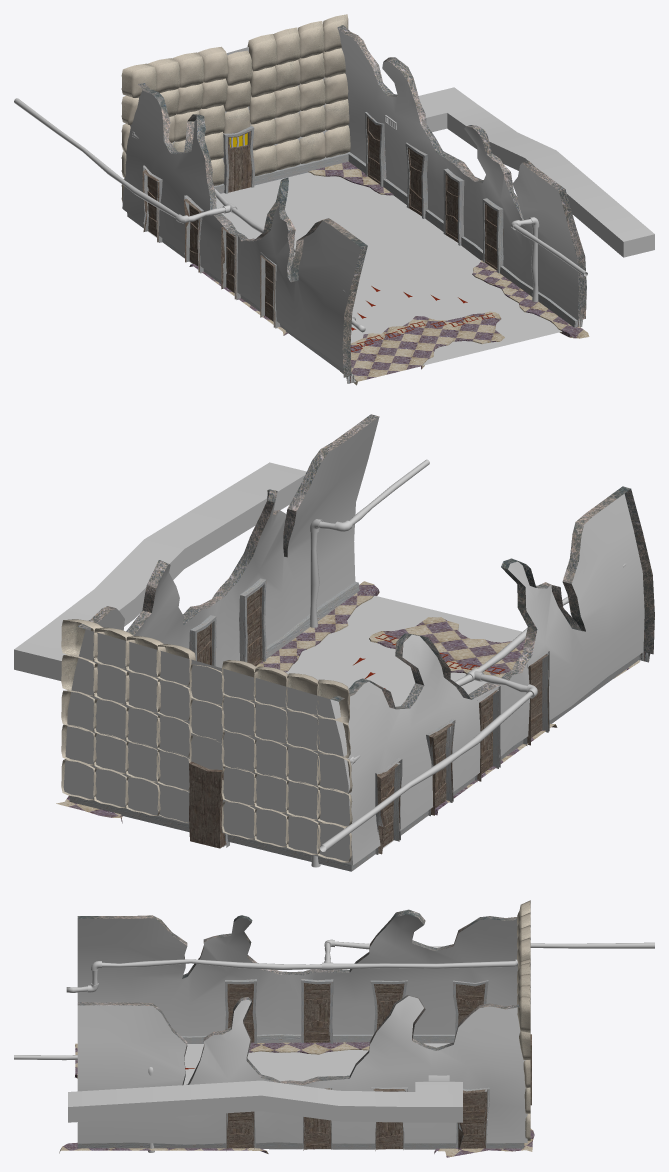
Rendered from BasicRoom01.fbx.
3 renders of one model, top to bottom at view 1: azimuth 30°, elevation 25°; view 2: azimuth 150°, elevation 25°; view 3: azimuth 270°, elevation 25°, orthographic. The views are drawn at different scales.
Parts seen in each view (by area): view 1: Room, PadedWall, Vent, FloorChunk1, Pipes, FloorChunk3, Exitdoor, Pipes1, FloorChunk4, Door2, Door7, Door6 (+11 smaller); view 2: Room, Vent, PadedWall, FloorChunk1, Pipes, Exitdoor, FloorChunk3, Pipes1, Door4, Door3, Door5, DoorFrame4 (+5 smaller); view 3: Room, Vent, Pipes, PadedWall, Door2, Door8, FloorChunk2, Door5, Door6, Door7, Door1, Door4 (+6 smaller).
Boxes of the visible parts, x1,y1,x2,y2 form: Room: (122,25,586,383); PadedWall: (121,14,350,202); Vent: (384,87,654,257); FloorChunk1: (340,311,504,385); Pipes: (14,98,365,332); FloorChunk3: (472,260,589,338); Exitdoor: (228,131,251,192); Pipes1: (510,217,587,301); FloorChunk4: (308,161,393,195); Door2: (221,227,236,299); Door7: (407,147,422,216); Door6: (445,173,458,242); Room: (63,414,654,871); Vent: (14,462,306,680); PadedWall: (61,619,352,862); FloorChunk1: (369,617,640,678); Pipes: (311,563,626,867); Exitdoor: (189,761,226,848); FloorChunk3: (256,581,379,672); Pipes1: (310,459,429,627); Door4: (377,762,400,854); Door3: (429,723,453,815); Door5: (247,586,262,666); DoorFrame4: (239,578,266,662); Room: (77,909,527,1149); Vent: (68,1075,462,1122); Pipes: (66,939,654,992); PadedWall: (517,900,530,1140); Door2: (304,983,330,1042); Door8: (458,1089,487,1150); FloorChunk2: (248,1042,369,1054); Door5: (226,1111,254,1150); Door6: (303,1088,331,1150); Door7: (373,1088,405,1150); Door1: (227,983,254,1042); Door4: (456,983,485,1024).
Bounding box in the file's own units: 4076 × 1753 × 6690.
